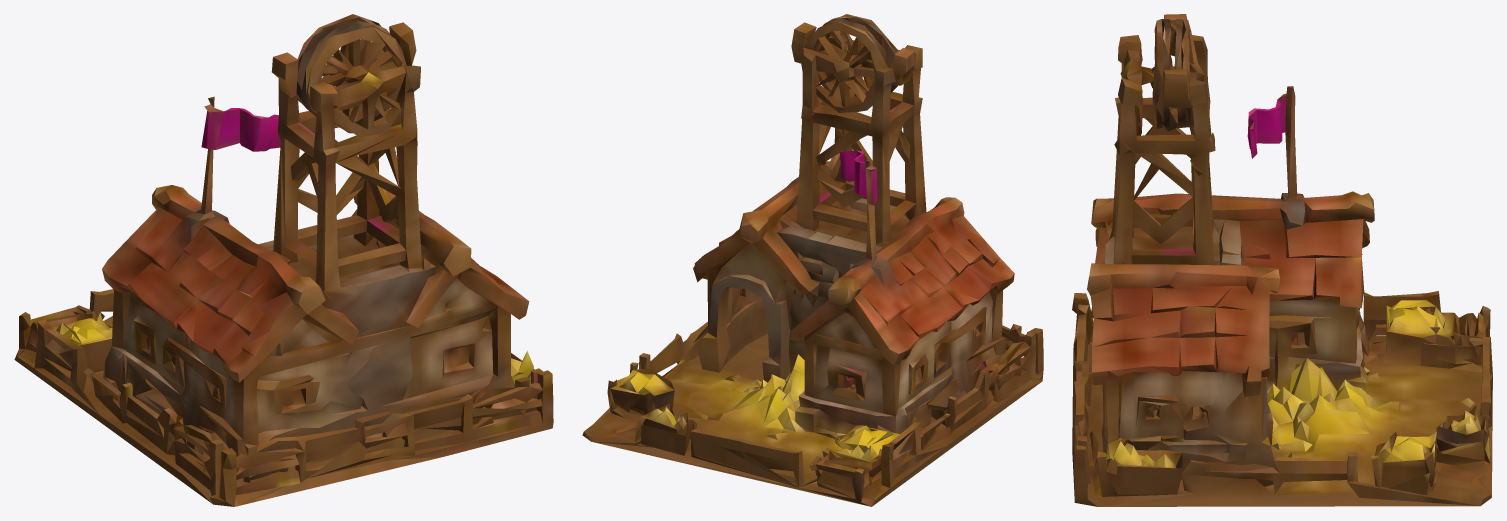
File: sulfur_mine3.lod2.glb
3 views of the same model, side by side, from view 1: azimuth 30°, elevation 25°; view 2: azimuth 150°, elevation 25°; view 3: azimuth 270°, elevation 25° (orthographic). The views are drawn at different scales.
Visible parts, largest first — view 1: sulfur_mine3.lod2_uv; view 2: sulfur_mine3.lod2_uv; view 3: sulfur_mine3.lod2_uv.
Part boxes in pixels (x1,y1,x2,y2): sulfur_mine3.lod2_uv: (14,14,553,506); sulfur_mine3.lod2_uv: (582,14,1043,506); sulfur_mine3.lod2_uv: (1072,14,1492,506).
Bounding box in the file's own units: 1.65 × 1.89 × 1.78.
Materials: 1 (1 with a texture image).
